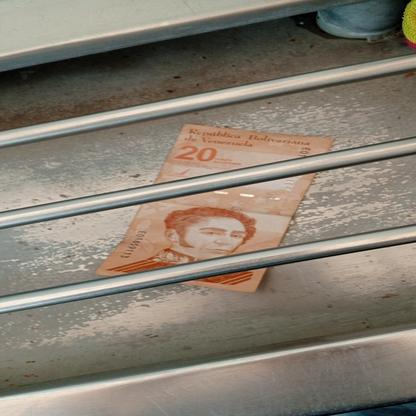twenty-front-vef: (95, 122, 335, 293)
